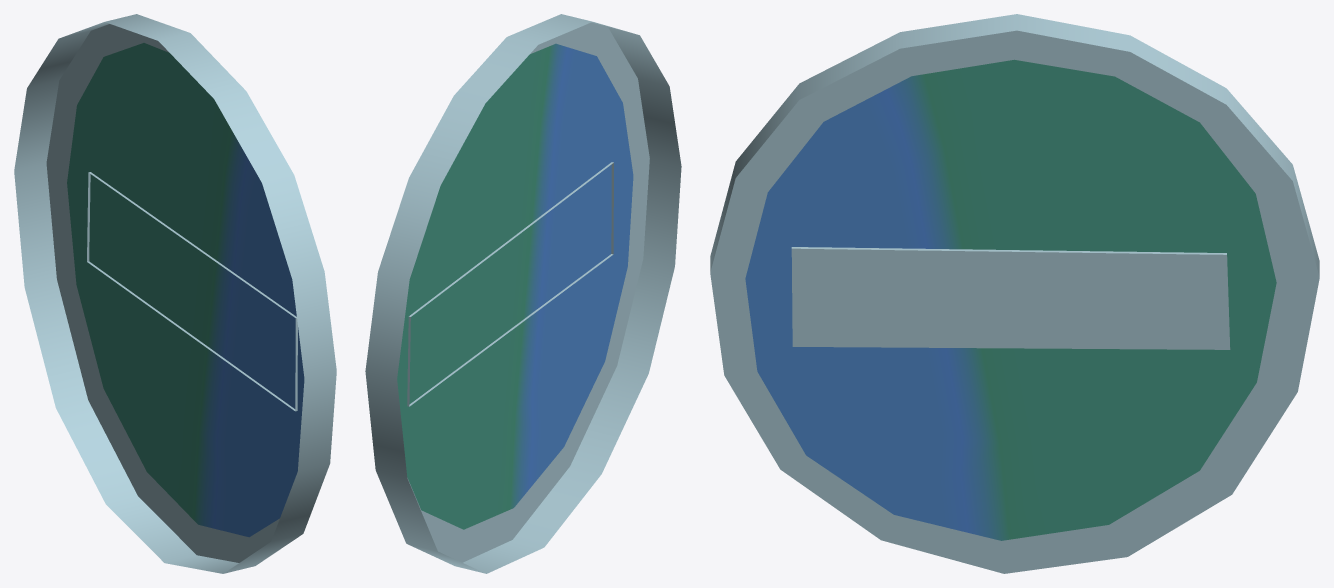
Rendered from Garage_Sign.fbx.
3 views of the same model, side by side, from view 1: azimuth 30°, elevation 25°; view 2: azimuth 150°, elevation 25°; view 3: azimuth 270°, elevation 25° (orthographic). The views are drawn at different scales.
Visible parts, largest first — view 1: Garage_Sign; view 2: Garage_Sign; view 3: Garage_Sign.
Part boxes in pixels (left/top/right/bottom): Garage_Sign: left=14, top=14, right=336, bottom=573; Garage_Sign: left=365, top=14, right=681, bottom=573; Garage_Sign: left=710, top=14, right=1319, bottom=573.
Bounding box in the file's own units: 6.84 × 94.51 × 96.08.
